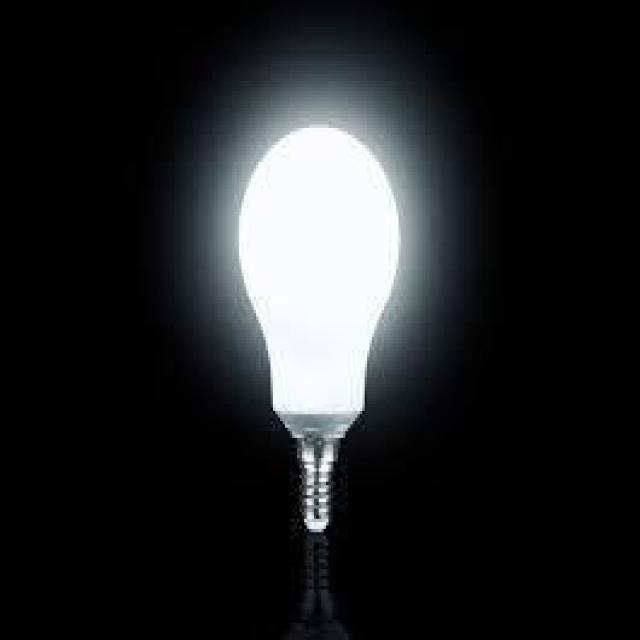other: (218, 90, 422, 457)
